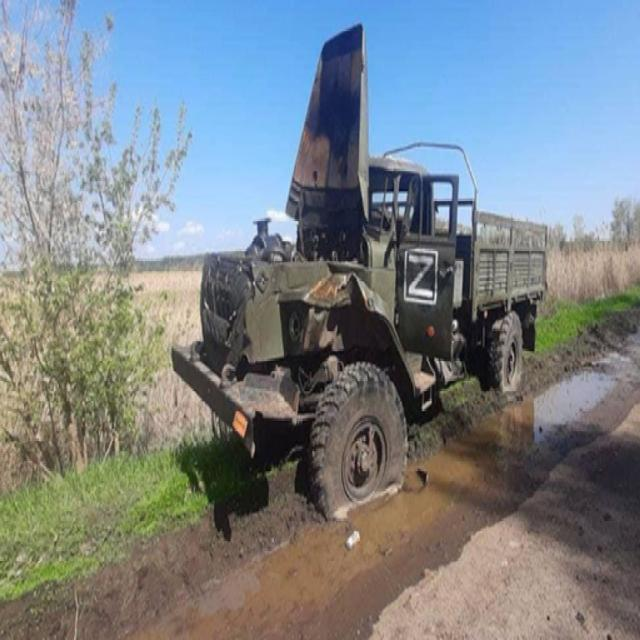TRUCK: (179, 120, 550, 540)
